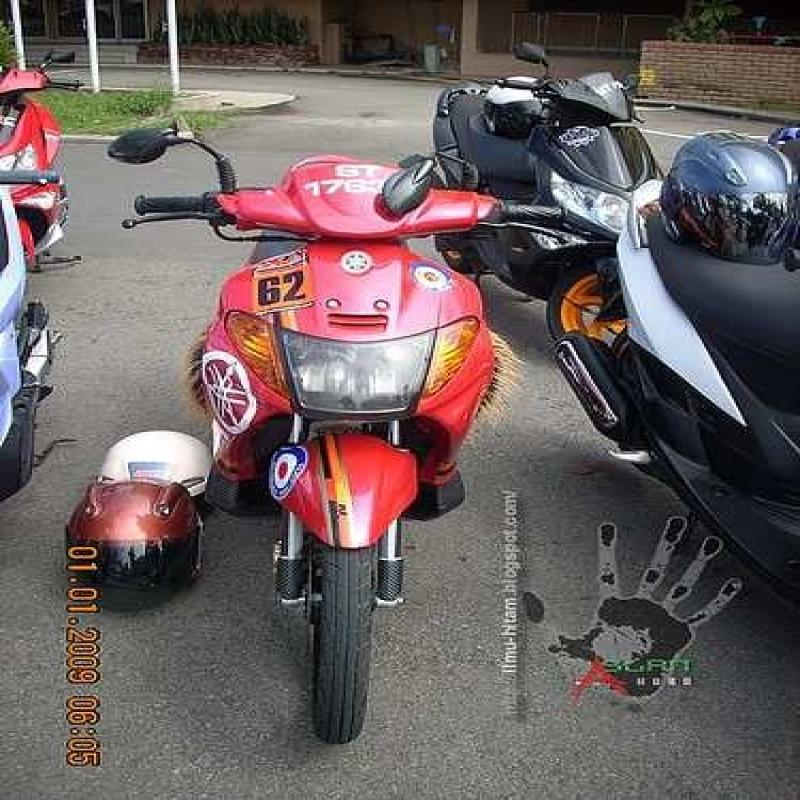bike: (114, 89, 561, 800), (430, 43, 662, 252)
